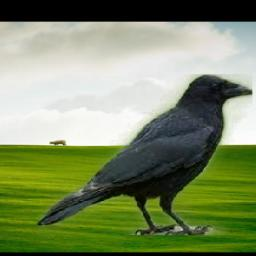Crow: (39, 75, 254, 236)
